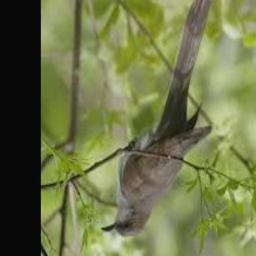Cuckoo: (101, 0, 212, 236)
